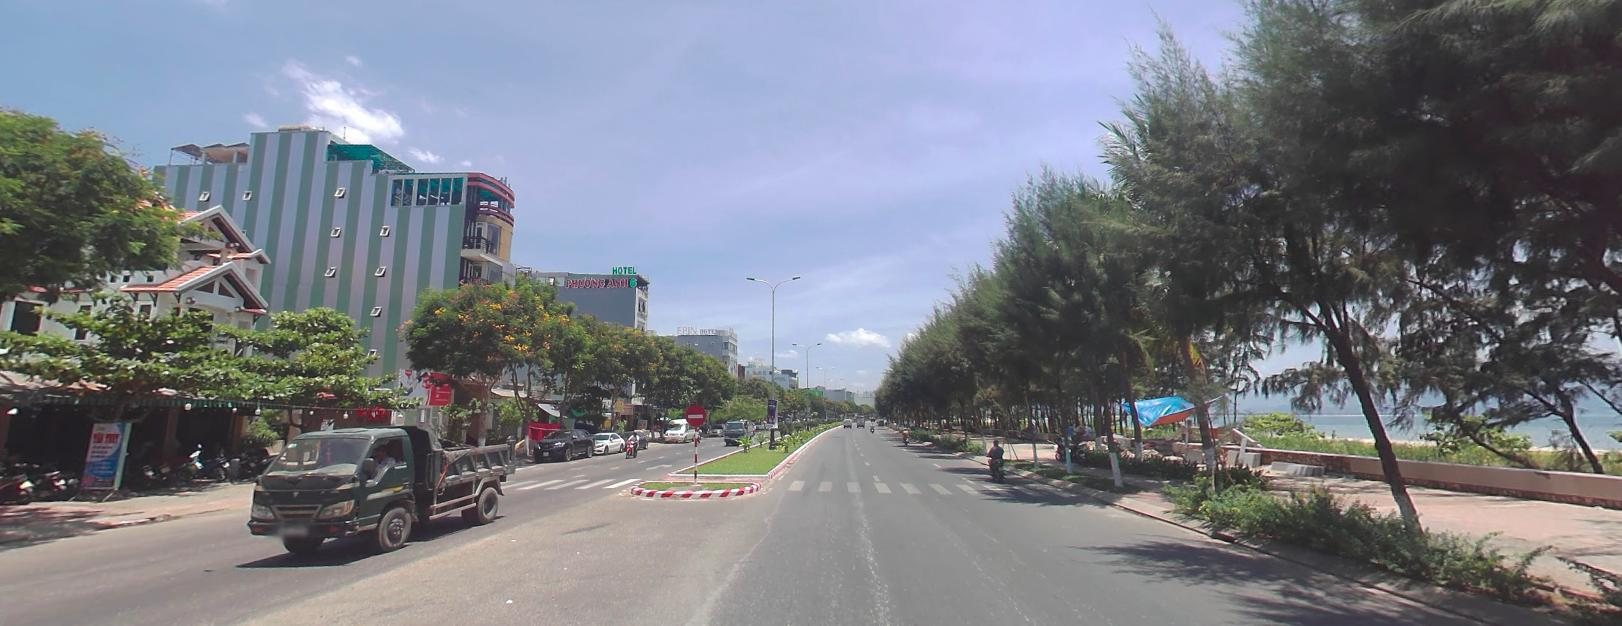Cam nguoc chieu: (685, 403, 704, 424)
